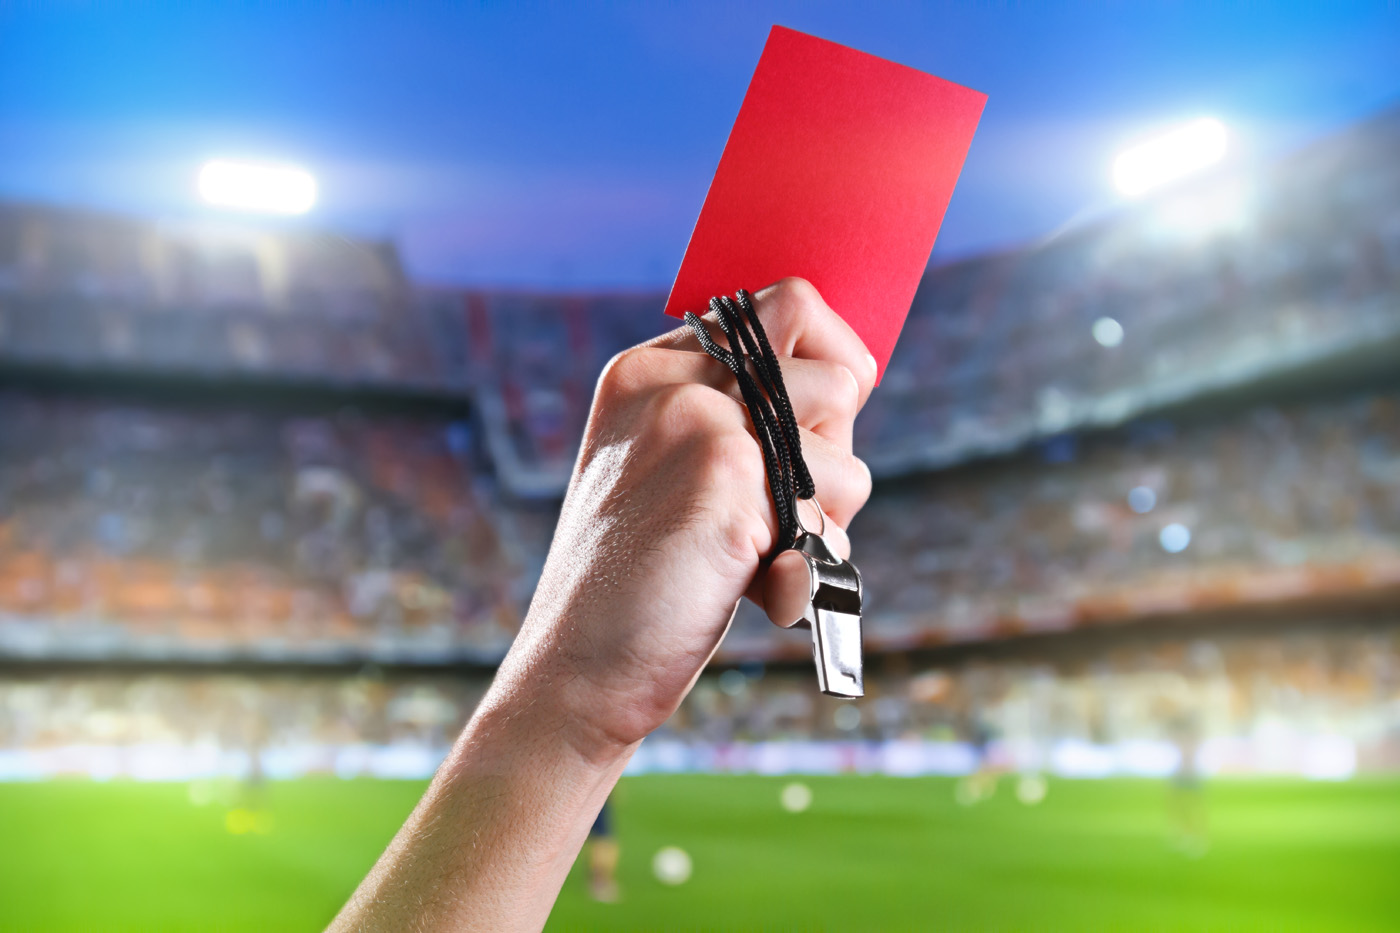red_card: (554, 14, 993, 752)
